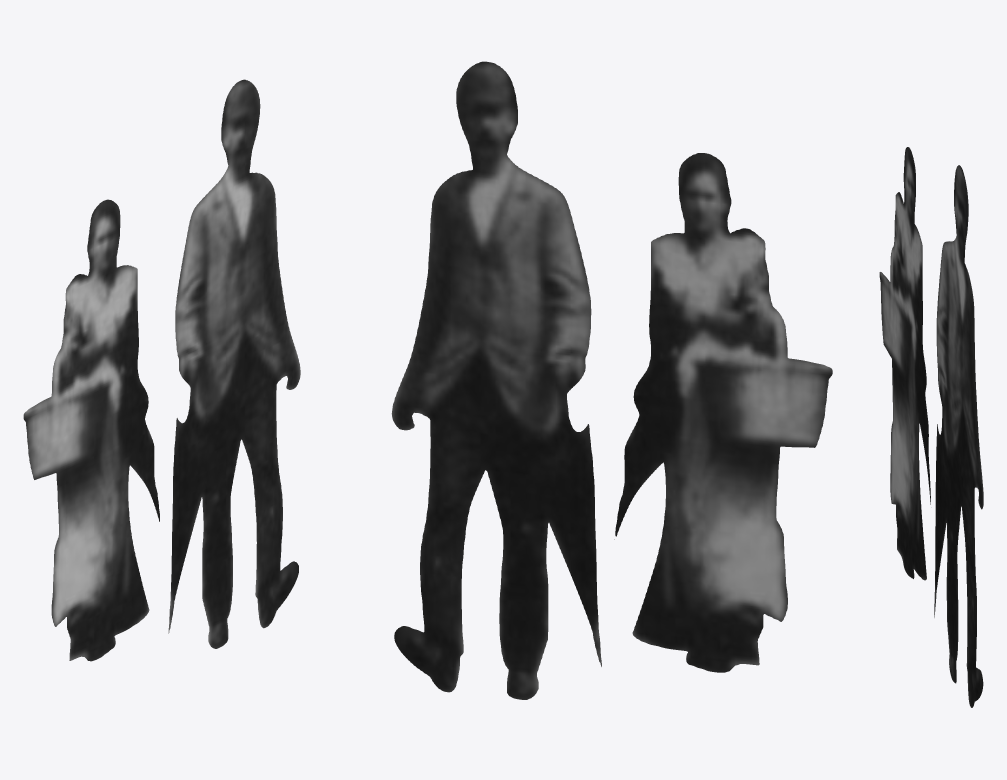
The model's file is man_with_woman.FBX.
3 renders of one model, left to right at view 1: azimuth 30°, elevation 25°; view 2: azimuth 150°, elevation 25°; view 3: azimuth 270°, elevation 25°, orthographic. The views are drawn at different scales.
Visible parts, largest first — view 1: man_with_woman; view 2: man_with_woman; view 3: man_with_woman.
Boxes of the visible parts, <box> form: man_with_woman: <box>23,79,300,661</box>; man_with_woman: <box>391,61,832,699</box>; man_with_woman: <box>879,147,983,707</box>.
Size of the model in its own units: 122 by 192 by 35.01.
1 material, 1 textured.
